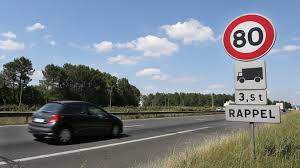Speed_limit_80km: (222, 14, 276, 61)
